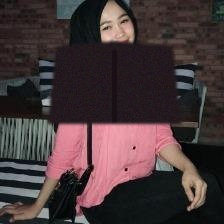Cadar_Niqab: (48, 0, 180, 123)
